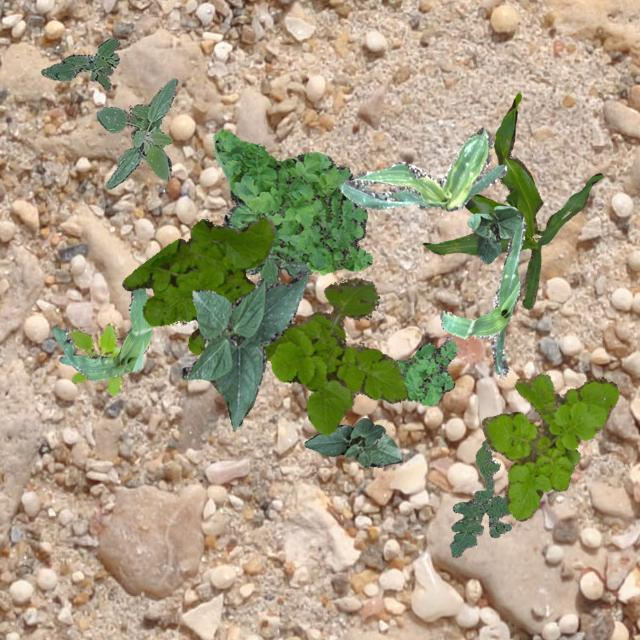crop: (422, 92, 602, 308), (178, 270, 308, 430), (338, 126, 506, 210), (440, 218, 526, 376), (50, 286, 152, 379), (304, 416, 402, 466), (467, 205, 522, 262)
weed: (121, 214, 406, 433), (212, 128, 372, 274), (480, 374, 618, 520), (96, 76, 176, 188), (448, 438, 511, 556), (393, 334, 458, 404), (68, 320, 124, 394), (41, 36, 118, 88), (244, 252, 312, 284)
